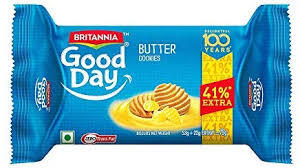VEG: (59, 130, 76, 145)
